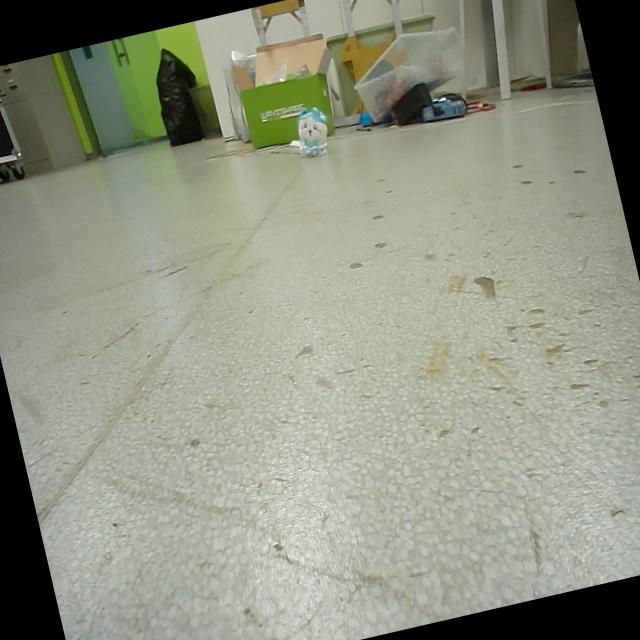xiaoba: (289, 99, 333, 161)
